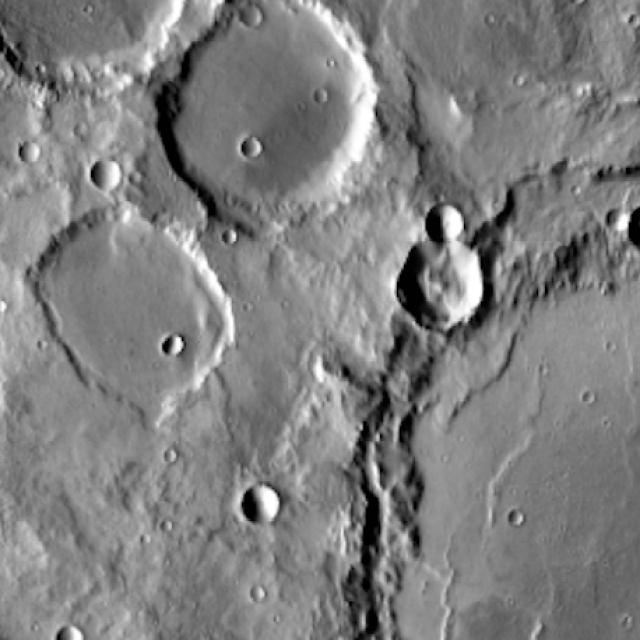Crater: (255, 78, 640, 639), (9, 186, 270, 457), (154, 0, 404, 254), (0, 0, 232, 98), (376, 195, 507, 351)
